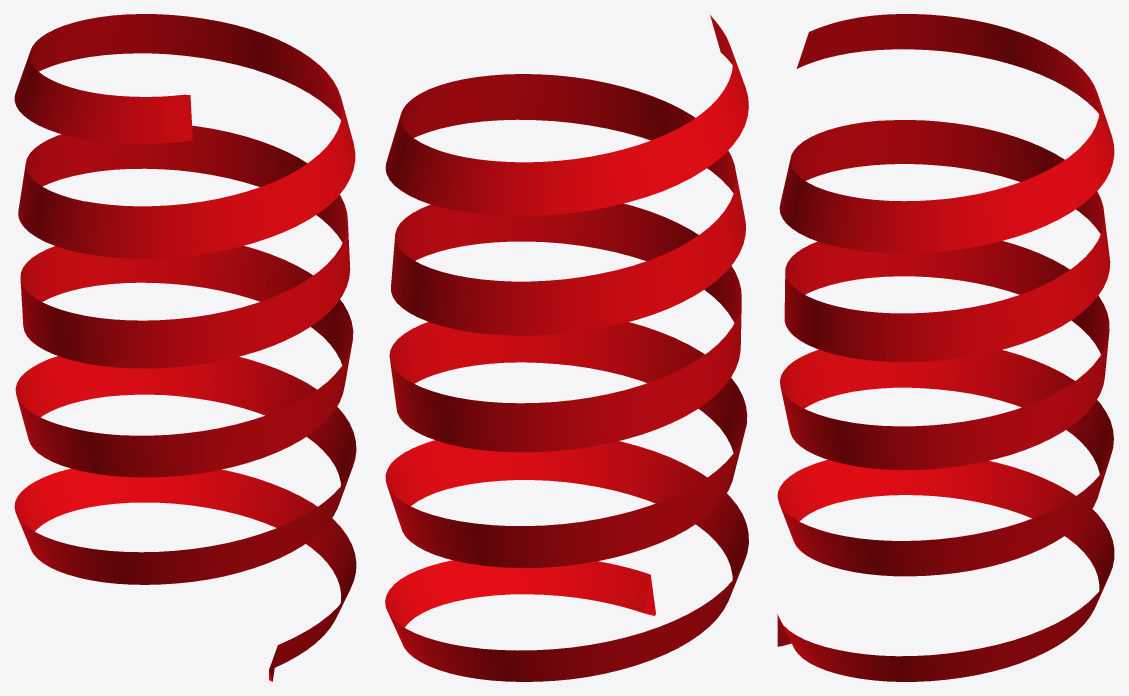
Rendered from espiral.gltf.
3 views of the same model, side by side, from view 1: azimuth 30°, elevation 25°; view 2: azimuth 150°, elevation 25°; view 3: azimuth 270°, elevation 25° (orthographic). The views are drawn at different scales.
Visible parts, largest first — view 1: Mesh_0; view 2: Mesh_0; view 3: Mesh_0.
Boxes of the visible parts, x1,y1,x2,y2 form: Mesh_0: (14,14,356,681); Mesh_0: (385,15,748,681); Mesh_0: (777,14,1114,681).
Bounding box in the file's own units: 46.2 × 88.19 × 46.2.
